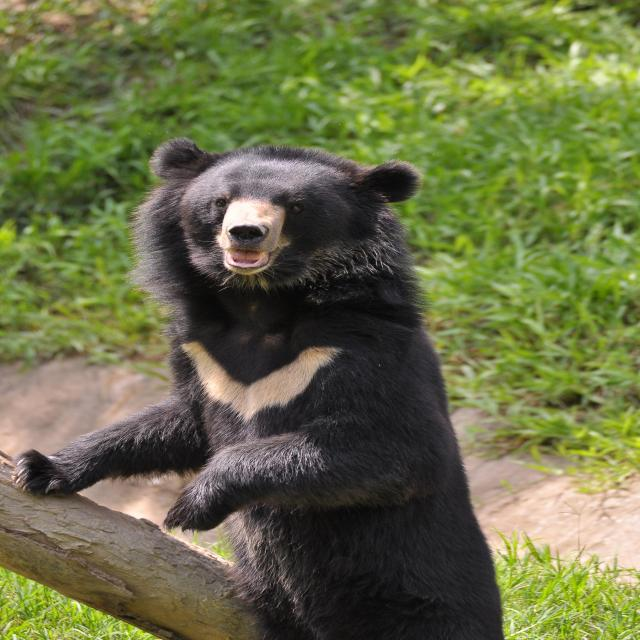Bear: (14, 138, 506, 640)
